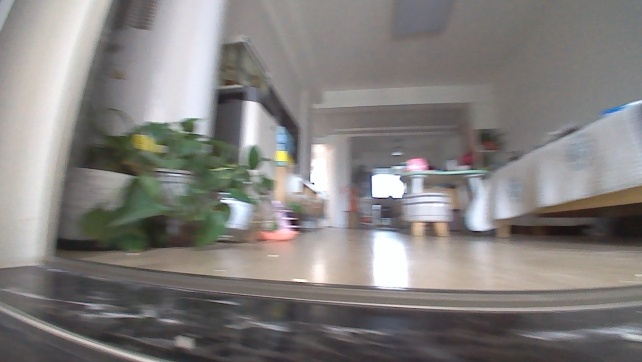sofa1: (462, 98, 641, 238)
